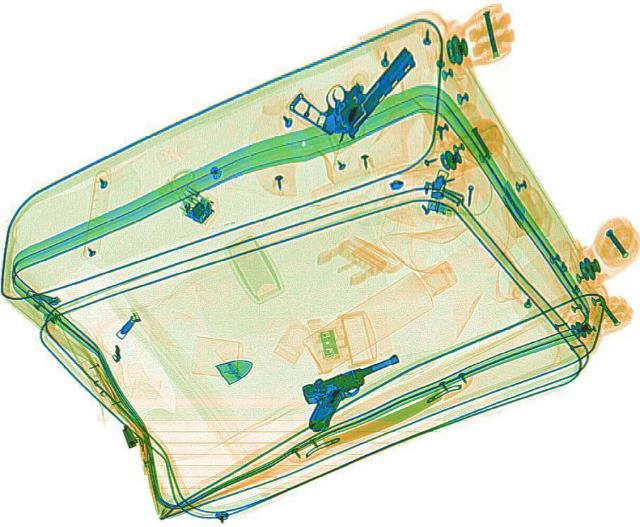Gun: (282, 22, 422, 141), (286, 351, 422, 431)
